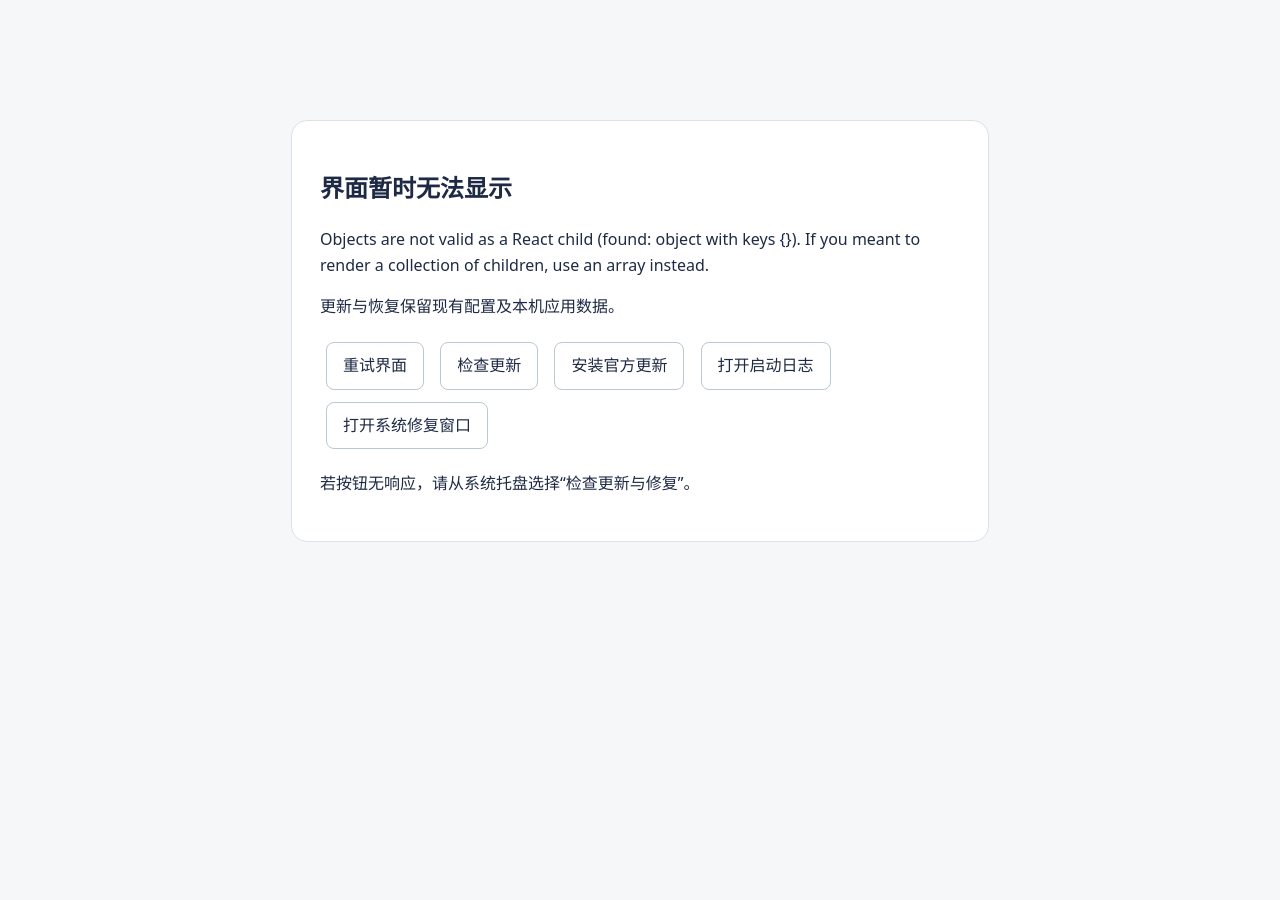
Test case: complete desktop startup and independent recovery › catches render failure and installs updates without loading business state
Check: the heading with id "recovery-title" shows "无法显示", box [320,171,512,204]
What coordinates should you click on to do the following:
click the button with id "recovery-install"
I would click on:
 (619, 366)
Its box is [554,342,684,390].
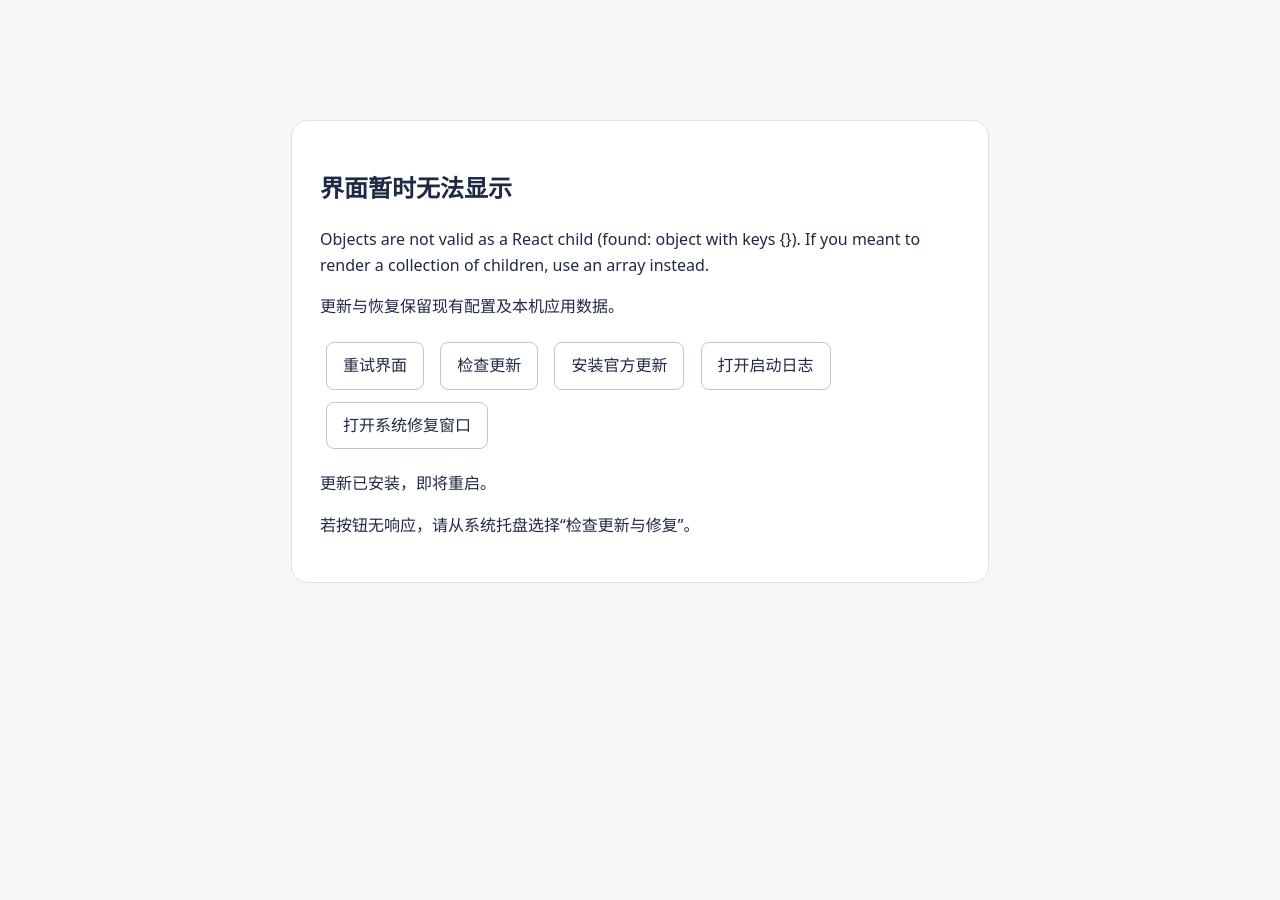
Check: the message with id "recovery-status" shows "更新已安装", box [320,472,496,494]
